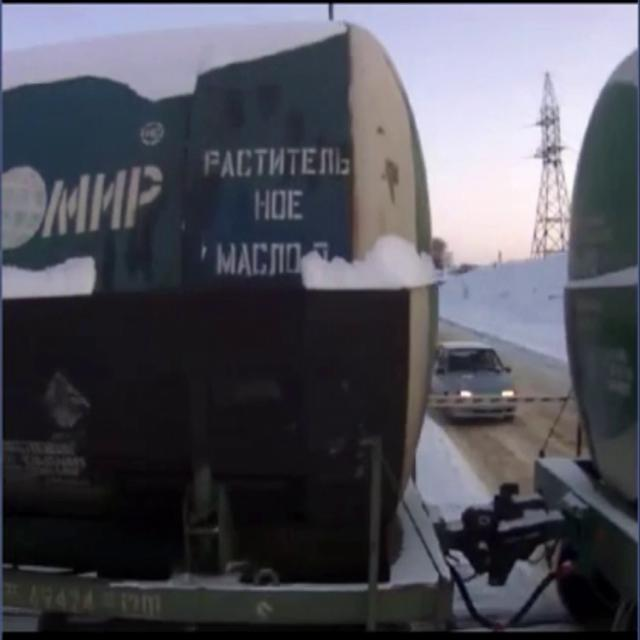tank: (0, 0, 491, 640), (517, 0, 639, 638)
